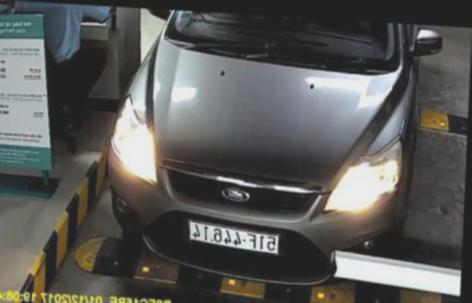License_Plate: (185, 221, 284, 253)
